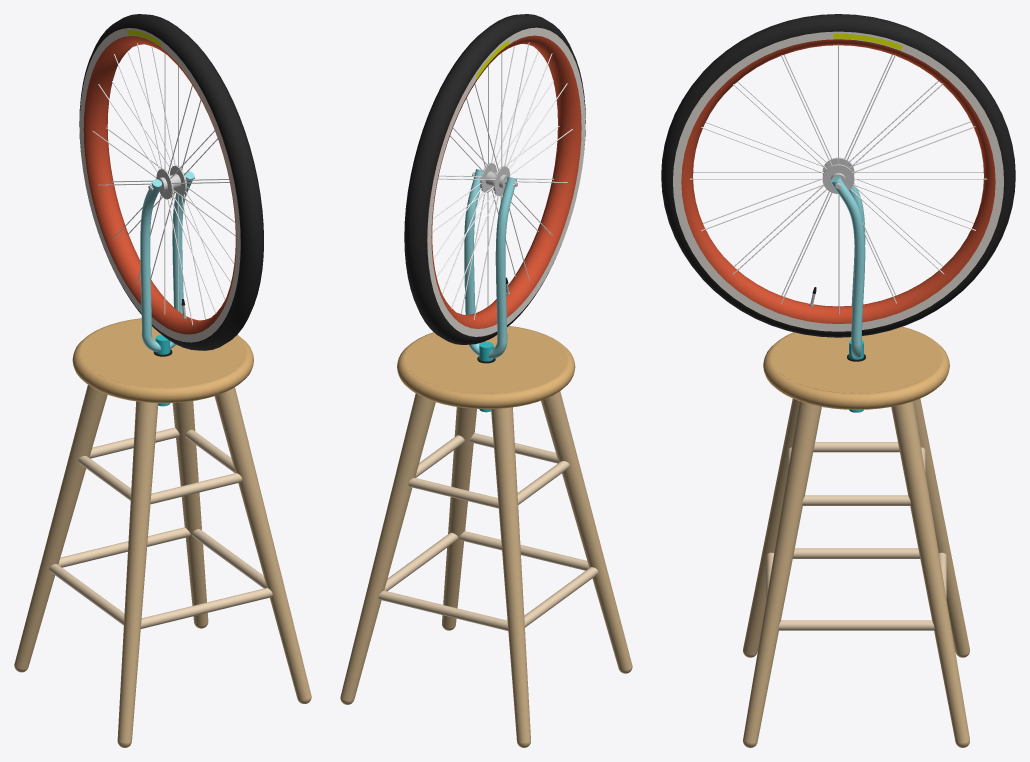
The model's file is stool.glb.
3 renders of one model, left to right at view 1: azimuth 30°, elevation 25°; view 2: azimuth 150°, elevation 25°; view 3: azimuth 270°, elevation 25°, orthographic. The views are drawn at different scales.
Visible parts, largest first — view 1: tireRubber, tireRim, stoolTop, leg2, leg1, leg4, tireSidewallL, leg3, stoolTopEdge, forkTubeL, bottomStrut3, bottomStrut4 (+7 smaller); view 2: tireRubber, tireRim, stoolTop, leg4, leg3, leg2, tireSidewallL, stoolTopEdge, leg1, forkTubeL, bottomStrut4, forkTubeR (+7 smaller); view 3: tireRubber, tireRim, stoolTop, tireSidewallR, leg1, leg3, stoolTopEdge, leg4, leg2, forkTubeR, bottomStrut2, bottomStrut1 (+2 smaller).
Part boxes in pixels (box(x1,y1,x2,y2)): tireRubber: box(79, 14, 263, 350); tireRim: box(83, 36, 240, 334); stoolTop: box(80, 319, 245, 387); leg2: box(117, 401, 158, 741); leg1: box(214, 387, 310, 699); leg4: box(14, 385, 107, 668); tireSidewallL: box(79, 28, 240, 342); leg3: box(172, 401, 208, 625); stoolTopEdge: box(72, 318, 253, 403); forkTubeL: box(140, 183, 161, 336); bottomStrut3: box(140, 588, 272, 628); bottomStrut4: box(58, 527, 190, 567); tireRubber: box(404, 14, 585, 344); tireRim: box(427, 35, 581, 328); stoolTop: box(405, 326, 567, 393); leg4: box(491, 407, 530, 741); leg3: box(341, 393, 435, 700); leg2: box(541, 391, 631, 669); tireSidewallL: box(427, 27, 585, 336); stoolTopEdge: box(397, 326, 575, 409); leg1: box(442, 407, 476, 627); forkTubeL: box(495, 177, 516, 343); bottomStrut4: box(378, 590, 508, 630); forkTubeR: box(464, 169, 482, 315); tireRubber: box(661, 14, 1015, 337); tireRim: box(681, 39, 995, 323); stoolTop: box(771, 327, 941, 393); tireSidewallR: box(673, 31, 1003, 331); leg1: box(743, 401, 821, 742); leg3: box(891, 401, 969, 742); stoolTopEdge: box(763, 326, 949, 409); leg4: box(913, 399, 969, 654); leg2: box(743, 399, 799, 654); forkTubeR: box(831, 177, 865, 344); bottomStrut2: box(778, 620, 934, 630); bottomStrut1: box(793, 548, 920, 558).
Bounding box in the file's own units: 2.15 × 7.14 × 3.34.
